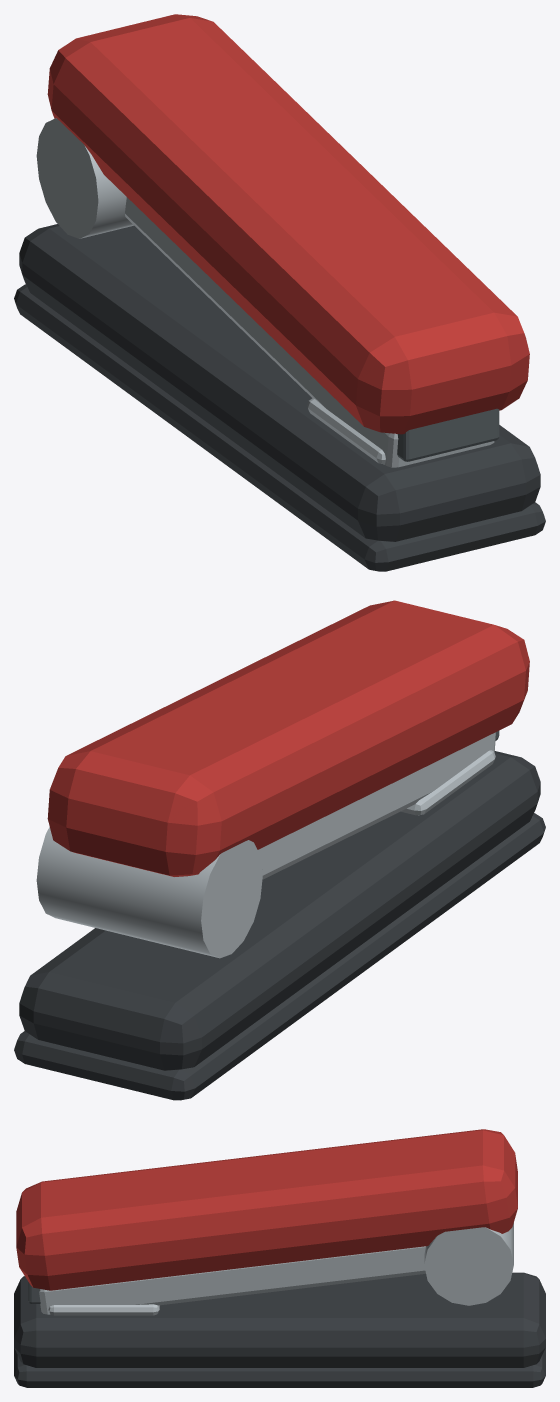
Rendered from stapler.glb.
The picture shows the model from 3 angles, top to bottom: view 1: azimuth 30°, elevation 25°; view 2: azimuth 150°, elevation 25°; view 3: azimuth 270°, elevation 25°; orthographic projection. The views are drawn at different scales.
Visible parts, largest first — view 1: Rounded red press cover, Weighted base, Rubber underside, Rear hinge pin, Metal staple channel, Front staple outlet, Front steel anvil; view 2: Rounded red press cover, Weighted base, Rear hinge pin, Rubber underside, Metal staple channel, Front steel anvil; view 3: Rounded red press cover, Weighted base, Rubber underside, Metal staple channel, Rear hinge pin, Front steel anvil.
Boxes of the visible parts, x1=… form: Rounded red press cover: x1=47, y1=14, x2=529, y2=434; Weighted base: x1=19, y1=224, x2=540, y2=541; Rubber underside: x1=14, y1=284, x2=545, y2=571; Rear hinge pin: x1=36, y1=118, x2=133, y2=238; Metal staple channel: x1=125, y1=197, x2=494, y2=467; Front staple outlet: x1=397, y1=408, x2=499, y2=461; Front steel anvil: x1=307, y1=398, x2=385, y2=464; Rounded red press cover: x1=47, y1=600, x2=529, y2=876; Weighted base: x1=19, y1=751, x2=540, y2=1070; Rear hinge pin: x1=36, y1=827, x2=262, y2=958; Rubber underside: x1=14, y1=813, x2=545, y2=1100; Metal staple channel: x1=258, y1=732, x2=495, y2=879; Front steel anvil: x1=401, y1=750, x2=495, y2=815; Rounded red press cover: x1=16, y1=1129, x2=517, y2=1290; Weighted base: x1=14, y1=1272, x2=545, y2=1367; Rubber underside: x1=14, y1=1347, x2=545, y2=1387; Metal staple channel: x1=39, y1=1246, x2=425, y2=1314; Rear hinge pin: x1=424, y1=1222, x2=513, y2=1305; Front steel anvil: x1=48, y1=1304, x2=159, y2=1315.
Bounding box in the file's own units: 0.047 × 0.0734 × 0.166.
